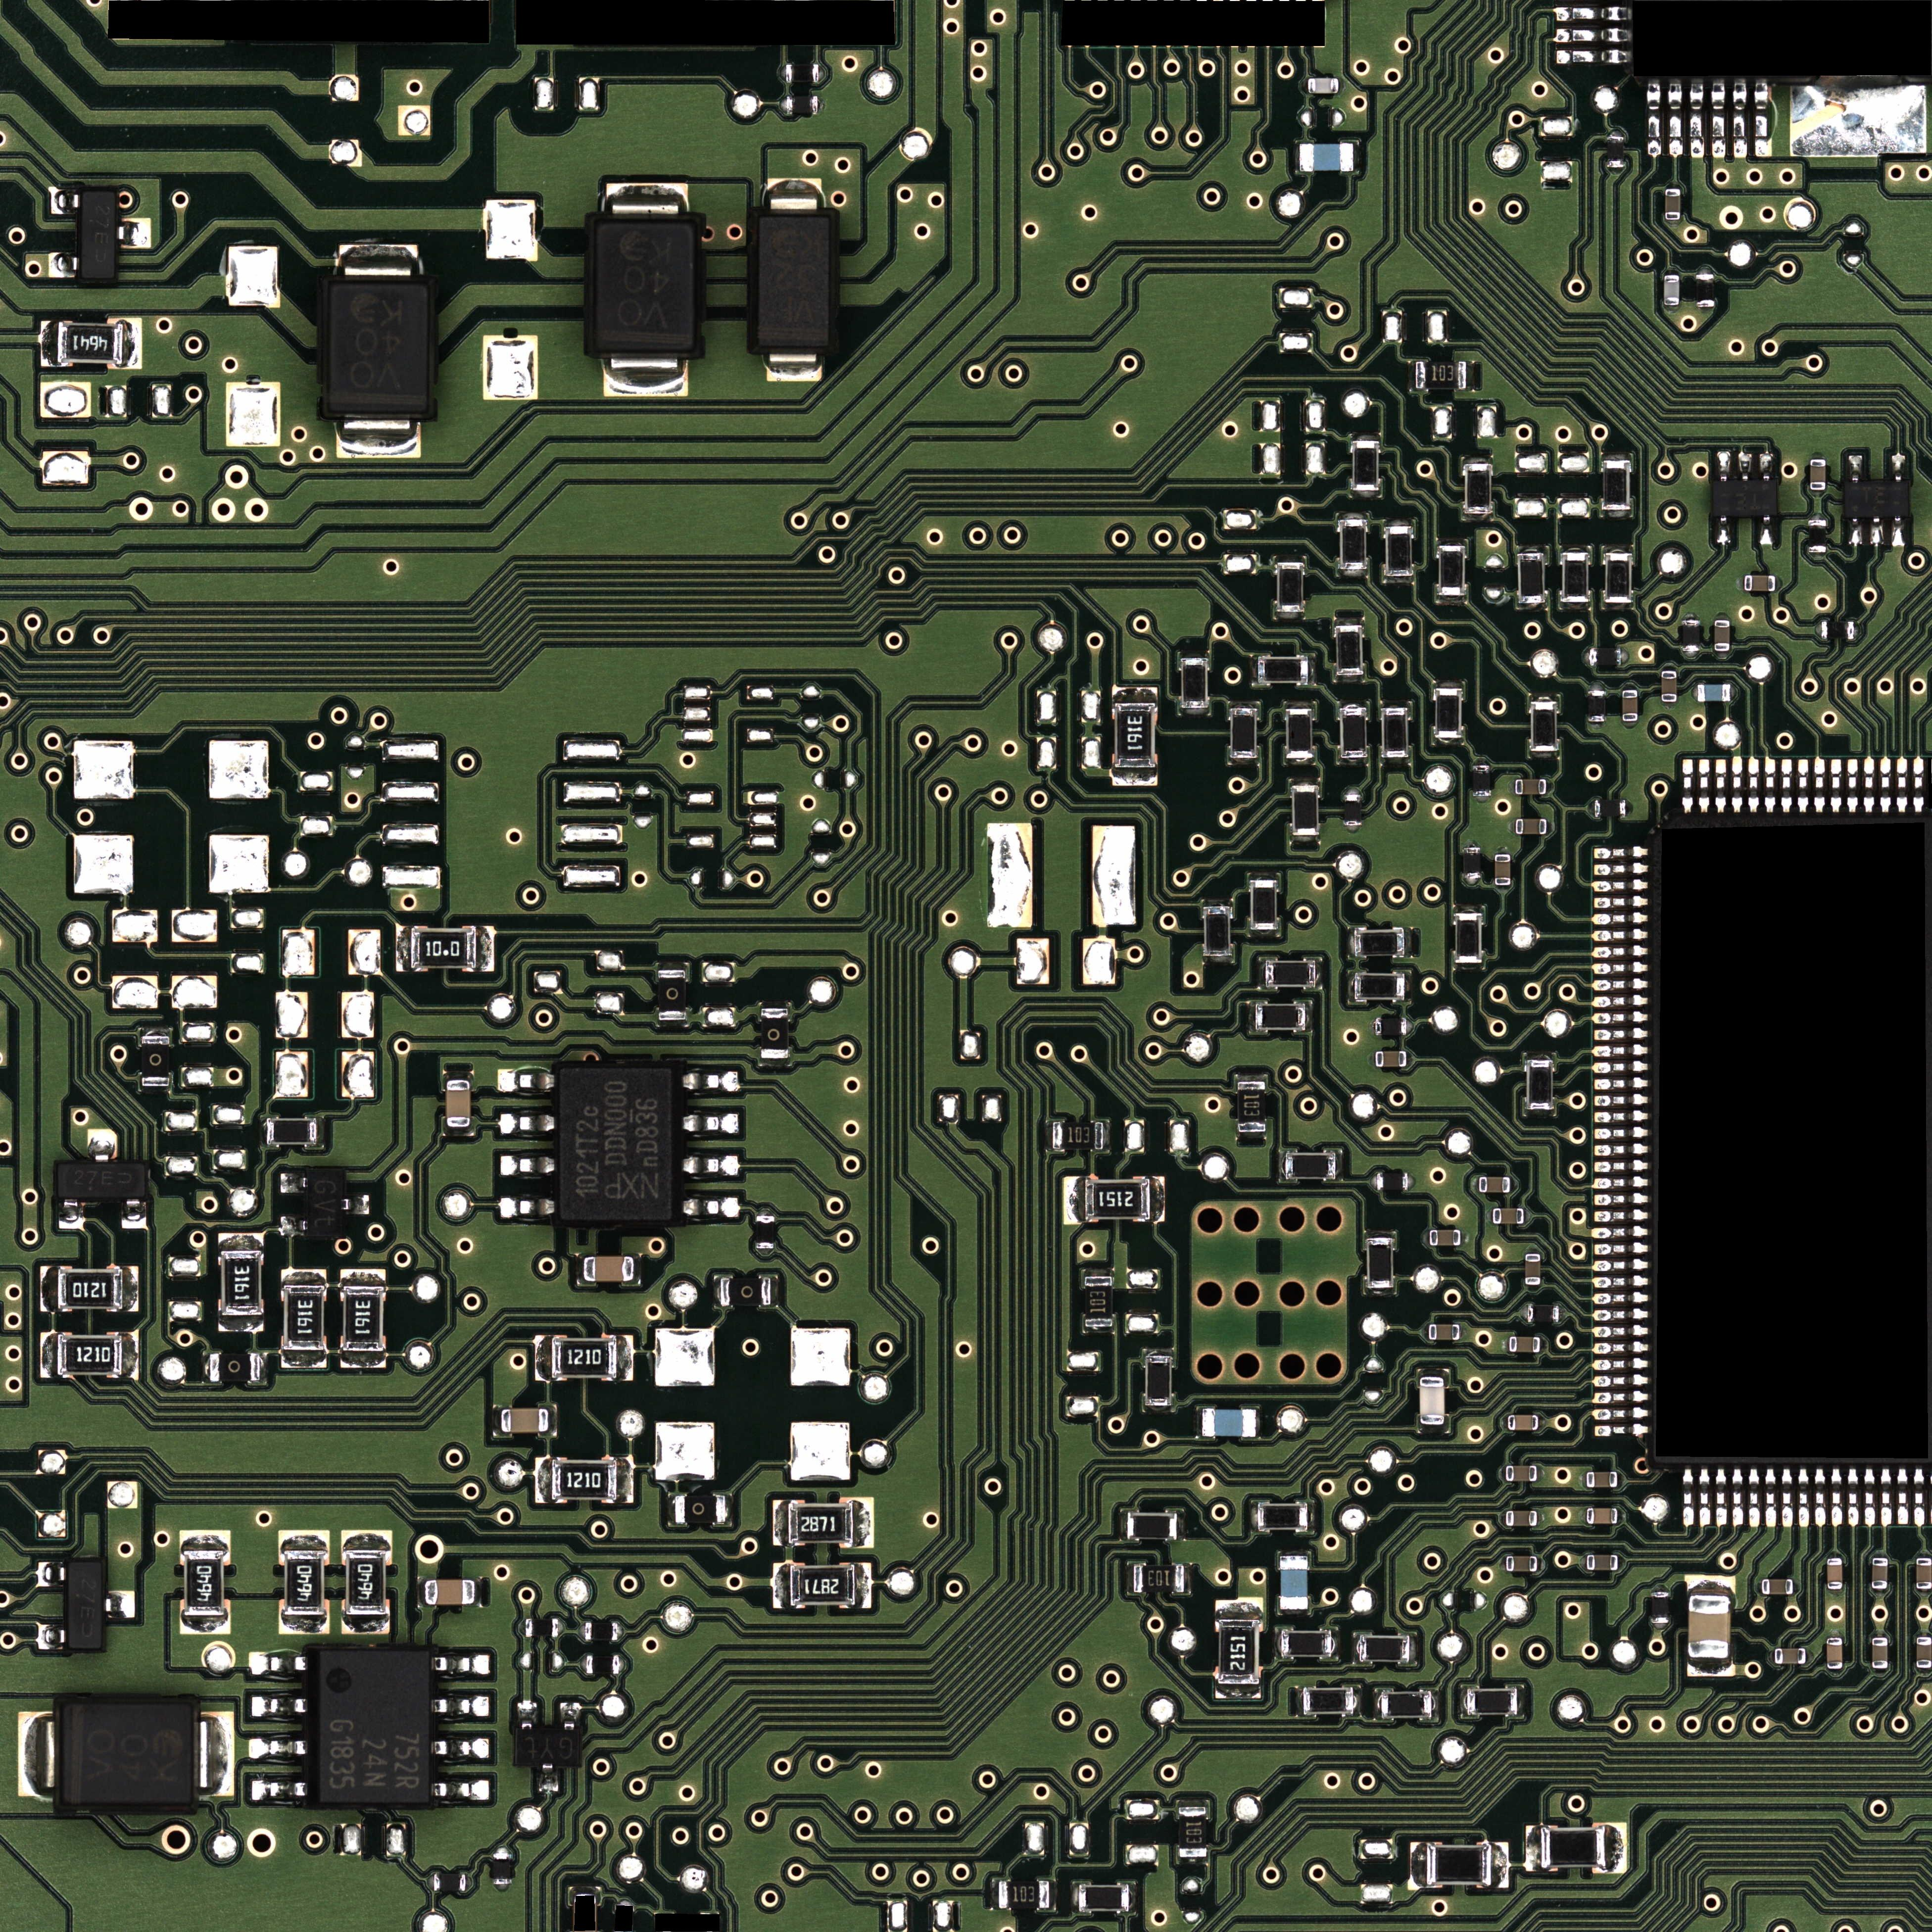Package: (559, 1067, 672, 1221), (320, 1651, 430, 1803), (60, 1706, 193, 1805), (329, 283, 428, 414), (594, 223, 694, 352), (757, 216, 830, 350), (57, 1161, 147, 1200), (65, 1560, 104, 1649), (80, 188, 117, 280), (410, 927, 476, 970), (345, 1550, 387, 1615), (1217, 1619, 1260, 1684), (789, 1502, 853, 1545), (283, 1284, 324, 1350), (283, 1550, 324, 1615), (552, 1460, 617, 1500), (184, 1550, 225, 1615), (221, 1251, 262, 1316), (1115, 702, 1155, 768), (1085, 1178, 1150, 1219), (1688, 1596, 1730, 1658), (58, 322, 122, 363), (552, 1338, 616, 1378), (58, 1269, 122, 1309), (791, 1566, 855, 1606), (1428, 1844, 1491, 1884), (343, 1286, 382, 1352), (57, 1336, 122, 1375), (306, 1169, 345, 1235), (1541, 1828, 1605, 1867), (515, 1729, 580, 1766), (1844, 481, 1909, 517), (1713, 481, 1776, 515), (1300, 143, 1353, 172), (1203, 1408, 1256, 1437), (720, 1277, 771, 1306), (1415, 361, 1467, 389), (1085, 1276, 1113, 1327), (1237, 1081, 1265, 1132), (676, 1495, 725, 1523), (211, 1353, 260, 1382), (142, 1037, 170, 1086), (1000, 1881, 1049, 1909), (1053, 1122, 1102, 1150), (1281, 1557, 1307, 1608), (1178, 1808, 1207, 1856), (761, 1008, 787, 1058), (658, 970, 685, 1019), (1465, 464, 1491, 513), (1603, 460, 1629, 510), (1355, 929, 1405, 955), (1518, 554, 1545, 603), (1127, 1513, 1177, 1539), (1079, 1884, 1129, 1911), (1134, 1566, 1184, 1592), (1382, 1691, 1431, 1718), (1286, 1152, 1336, 1178), (1355, 973, 1405, 1000), (1467, 1688, 1516, 1714), (1258, 1504, 1307, 1530), (267, 1118, 315, 1145), (1361, 1635, 1408, 1661), (584, 1256, 633, 1281), (425, 1580, 474, 1605), (1456, 913, 1481, 962), (1293, 786, 1318, 835), (1205, 906, 1230, 955), (1182, 658, 1207, 708), (1258, 658, 1307, 683), (1353, 441, 1378, 490), (1286, 708, 1311, 757), (1341, 708, 1366, 757), (1231, 708, 1256, 757), (1277, 563, 1302, 612), (1341, 520, 1366, 570), (1606, 554, 1631, 603), (1562, 552, 1587, 602), (1256, 1005, 1306, 1030), (1146, 1355, 1171, 1405), (1368, 1238, 1392, 1288), (501, 1408, 548, 1433), (1387, 527, 1412, 575), (1338, 626, 1362, 674), (1440, 547, 1465, 594), (1267, 961, 1315, 985), (1530, 702, 1555, 750), (1304, 1688, 1352, 1713), (1283, 1631, 1330, 1656), (1419, 1376, 1444, 1424), (446, 1081, 471, 1127), (1384, 708, 1407, 757), (1437, 688, 1460, 738), (1529, 1060, 1552, 1109), (1253, 881, 1276, 929), (786, 64, 819, 83), (755, 1215, 775, 1249), (525, 1619, 559, 1637), (586, 1656, 619, 1674), (584, 1622, 617, 1640), (1821, 621, 1854, 639), (786, 96, 817, 113), (433, 1874, 465, 1891), (494, 1852, 511, 1884), (1808, 520, 1826, 552), (1697, 274, 1714, 306), (1683, 619, 1700, 651), (1345, 794, 1362, 826), (1463, 847, 1481, 879), (1606, 136, 1624, 168), (1589, 648, 1621, 665), (1375, 1017, 1407, 1035), (1527, 1304, 1559, 1322), (1376, 1173, 1408, 1191), (1697, 685, 1730, 701), (1596, 800, 1626, 817), (1589, 690, 1605, 722), (1661, 671, 1677, 702), (1474, 764, 1490, 796), (1622, 690, 1638, 722), (1872, 1637, 1888, 1668), (1506, 1511, 1537, 1527), (1506, 1465, 1537, 1481), (1775, 1649, 1806, 1665), (1916, 1637, 1932, 1668), (1516, 819, 1546, 835), (1516, 778, 1546, 794), (1714, 621, 1730, 651), (1744, 575, 1775, 591), (1665, 189, 1681, 219), (1495, 855, 1511, 885), (1810, 460, 1826, 490), (1587, 1507, 1617, 1523), (1493, 1208, 1523, 1224), (1587, 1555, 1617, 1571), (1430, 1230, 1460, 1246), (1525, 1254, 1541, 1284), (1430, 1323, 1460, 1339), (1509, 1336, 1539, 1352), (1376, 1051, 1407, 1067), (1872, 1559, 1888, 1589), (1479, 1177, 1509, 1192), (1587, 1472, 1617, 1488), (1826, 1638, 1842, 1668), (1652, 1592, 1668, 1622), (1916, 1559, 1932, 1589), (1309, 78, 1338, 94), (1506, 1557, 1537, 1571), (1665, 274, 1679, 304), (1762, 1580, 1792, 1594), (1828, 1559, 1842, 1589), (1509, 1415, 1537, 1430)
Solder: (1790, 85, 1927, 156), (336, 414, 419, 458), (603, 352, 686, 396), (607, 182, 688, 223), (18, 1711, 55, 1798), (200, 1711, 234, 1796), (340, 244, 416, 281), (766, 179, 823, 216), (763, 350, 823, 382), (249, 1652, 308, 1675), (497, 1069, 556, 1092), (251, 1778, 308, 1801), (683, 1154, 740, 1177), (432, 1654, 490, 1675), (432, 1780, 490, 1801), (1755, 78, 1771, 156), (1711, 78, 1727, 156), (1688, 80, 1704, 157), (1668, 78, 1684, 156), (1732, 80, 1748, 156), (1645, 80, 1661, 156), (249, 1737, 306, 1759), (432, 1737, 488, 1759), (432, 1695, 488, 1716), (499, 1196, 556, 1217), (683, 1113, 740, 1134), (683, 1196, 740, 1217), (683, 1070, 740, 1092), (499, 1113, 556, 1134), (251, 1695, 306, 1716), (501, 1155, 556, 1177), (853, 1497, 874, 1548), (1557, 50, 1633, 64), (119, 218, 152, 249), (87, 1129, 119, 1161), (1063, 1177, 1085, 1224), (280, 1530, 329, 1550), (341, 1530, 391, 1550), (280, 1615, 329, 1635), (180, 1615, 230, 1635), (180, 1530, 230, 1550), (1557, 28, 1633, 41), (1557, 7, 1633, 19), (341, 1615, 389, 1635), (1215, 1599, 1263, 1619), (124, 318, 142, 368), (1606, 1824, 1624, 1874), (1686, 1576, 1734, 1594), (1111, 768, 1157, 786), (1491, 1842, 1509, 1888), (1688, 1658, 1734, 1675), (106, 1591, 134, 1619), (41, 1265, 57, 1313), (617, 1456, 633, 1504), (1410, 1842, 1426, 1890), (48, 253, 78, 278), (58, 1200, 83, 1230), (41, 320, 57, 366), (340, 1352, 386, 1368), (122, 1332, 138, 1378), (218, 1233, 264, 1249), (218, 1316, 264, 1332), (340, 1269, 386, 1284), (281, 1269, 327, 1284), (281, 1352, 327, 1368), (41, 1332, 57, 1378), (478, 925, 494, 971), (855, 1562, 870, 1608), (773, 1562, 789, 1608), (1525, 1826, 1541, 1872), (1913, 1467, 1925, 1525), (1897, 1467, 1909, 1525), (1847, 1467, 1859, 1525), (1813, 1467, 1826, 1525), (1798, 1467, 1810, 1525), (1698, 1468, 1711, 1527), (1683, 1468, 1695, 1527), (1782, 1467, 1794, 1525), (122, 1267, 138, 1311), (617, 1336, 633, 1380), (1113, 686, 1157, 702), (51, 189, 80, 214), (122, 1200, 147, 1228), (37, 1624, 65, 1649), (37, 1562, 65, 1587), (1594, 1407, 1651, 1419), (1594, 1391, 1651, 1403), (1592, 1341, 1649, 1353), (1592, 1226, 1649, 1238), (1592, 1242, 1649, 1254), (1592, 1260, 1649, 1272), (1592, 1276, 1649, 1288), (1592, 1161, 1649, 1173), (1592, 1177, 1649, 1189), (1594, 994, 1651, 1007), (1594, 1375, 1649, 1387), (1594, 1093, 1649, 1106), (1594, 1127, 1649, 1139), (1594, 1143, 1649, 1155), (1594, 929, 1649, 941), (1594, 945, 1649, 957), (1798, 757, 1810, 812), (1594, 978, 1647, 991), (1594, 879, 1647, 892), (1594, 863, 1647, 876), (1714, 759, 1727, 812), (396, 925, 410, 971), (536, 1336, 550, 1382), (536, 1458, 550, 1504), (1215, 1684, 1261, 1698), (773, 1500, 787, 1545), (1150, 1177, 1164, 1221), (1881, 1467, 1891, 1525), (1865, 1467, 1875, 1525), (1831, 1467, 1842, 1525), (1766, 1468, 1776, 1527), (1750, 1468, 1760, 1527), (1732, 1468, 1743, 1527), (1716, 1468, 1727, 1527), (538, 1764, 559, 1792), (559, 1702, 580, 1730), (517, 1700, 538, 1729), (1594, 1424, 1651, 1435), (1592, 1309, 1649, 1320), (1592, 1325, 1649, 1336), (1592, 1293, 1649, 1304), (1594, 1359, 1649, 1369), (1592, 1077, 1647, 1088), (1594, 1111, 1649, 1122), (1594, 913, 1649, 924), (1594, 1012, 1649, 1023), (1594, 1046, 1649, 1056), (1683, 759, 1693, 814), (1732, 757, 1743, 812), (1782, 757, 1792, 812), (1831, 757, 1842, 812), (1847, 757, 1858, 812), (1865, 757, 1875, 812), (1881, 757, 1891, 812), (1898, 757, 1909, 812), (1813, 757, 1824, 812), (1594, 1194, 1647, 1205), (1594, 1062, 1647, 1072), (1594, 897, 1647, 908), (1594, 962, 1647, 973), (1594, 1028, 1647, 1039), (1594, 847, 1647, 858), (1698, 759, 1709, 812), (1748, 759, 1759, 812), (1766, 759, 1776, 812), (1914, 757, 1925, 810), (1594, 1212, 1649, 1221), (281, 1173, 306, 1192), (281, 1215, 306, 1235), (1868, 517, 1884, 547), (345, 1194, 368, 1214), (1716, 517, 1730, 547), (1891, 453, 1905, 481), (1759, 453, 1773, 481), (1759, 517, 1773, 545), (1849, 455, 1863, 481), (1849, 518, 1863, 545), (1739, 451, 1752, 481), (1718, 451, 1730, 481), (1891, 517, 1904, 547), (568, 1886, 602, 1895), (492, 1405, 501, 1437), (442, 1127, 474, 1136), (548, 1405, 557, 1437), (759, 1058, 791, 1067), (667, 1493, 676, 1525), (1417, 1424, 1449, 1433), (1364, 1230, 1396, 1238), (1417, 1368, 1449, 1376), (1453, 904, 1484, 913), (1601, 545, 1633, 554), (1599, 510, 1631, 518), (1516, 1684, 1525, 1716), (140, 1028, 170, 1037), (656, 961, 686, 970), (770, 1276, 778, 1306), (1350, 490, 1380, 499), (1350, 432, 1380, 441), (1338, 511, 1368, 520), (1307, 655, 1316, 685), (1284, 701, 1315, 709), (1346, 927, 1355, 957), (1284, 757, 1315, 766), (1384, 518, 1414, 527), (1249, 929, 1279, 938), (1203, 955, 1233, 964), (1247, 1001, 1256, 1031), (1274, 1629, 1283, 1660), (1177, 1509, 1185, 1539), (1330, 1628, 1339, 1658), (1352, 1686, 1361, 1716), (1408, 1633, 1417, 1663), (1070, 1882, 1079, 1913), (1295, 1686, 1304, 1716), (1463, 513, 1493, 522), (1437, 538, 1467, 547), (1518, 545, 1548, 554), (1529, 694, 1559, 702), (658, 1019, 686, 1028), (1276, 612, 1304, 621), (1336, 674, 1364, 683), (1180, 708, 1208, 717), (1145, 1405, 1173, 1414), (1277, 1152, 1286, 1180), (1249, 1502, 1258, 1530), (1435, 679, 1463, 688), (1177, 1799, 1210, 1806), (713, 1276, 720, 1307), (725, 1493, 732, 1525), (1274, 556, 1306, 563), (1201, 899, 1233, 906), (1228, 757, 1260, 764), (1046, 1120, 1053, 1152), (1235, 1132, 1267, 1139), (1235, 1074, 1267, 1081), (1177, 1858, 1208, 1865), (1127, 1562, 1134, 1594), (991, 1879, 998, 1911), (1120, 1509, 1127, 1541), (1560, 545, 1592, 552), (1523, 1053, 1555, 1060), (1460, 1686, 1467, 1718), (317, 1116, 324, 1146), (418, 1576, 425, 1606), (577, 1254, 584, 1284), (633, 1254, 640, 1284), (1467, 361, 1474, 391), (1230, 701, 1260, 708), (1384, 577, 1414, 584), (1334, 617, 1364, 625), (1380, 701, 1410, 708), (1290, 778, 1320, 786), (1249, 872, 1279, 879), (1251, 655, 1258, 685), (1405, 927, 1412, 957), (1290, 835, 1320, 842), (1336, 1150, 1343, 1180), (1364, 1288, 1394, 1295), (1102, 1122, 1109, 1152), (1306, 1001, 1313, 1031), (1348, 971, 1355, 1001), (1315, 957, 1322, 987), (1405, 971, 1412, 1001), (1258, 959, 1265, 989), (1049, 1881, 1056, 1911), (1307, 1502, 1315, 1532), (1129, 1882, 1136, 1913), (1431, 1690, 1438, 1720), (1279, 1608, 1309, 1615), (1353, 1633, 1361, 1663), (1375, 1690, 1382, 1720), (1601, 453, 1631, 460), (1463, 456, 1493, 464), (1529, 752, 1559, 759), (1437, 596, 1467, 603), (1433, 738, 1463, 745), (1454, 962, 1484, 970), (1408, 361, 1415, 391), (260, 1353, 267, 1382), (140, 1086, 168, 1093), (444, 1072, 472, 1079), (203, 1353, 211, 1382), (474, 1578, 481, 1606), (761, 1001, 789, 1008), (1339, 701, 1368, 708), (1339, 570, 1368, 577), (1180, 651, 1208, 658), (1382, 757, 1410, 764), (1339, 757, 1368, 764), (1085, 1269, 1113, 1276), (1145, 1348, 1173, 1355), (1196, 1408, 1203, 1437), (1085, 1327, 1113, 1334), (1184, 1564, 1191, 1592), (1560, 602, 1589, 609), (1525, 1109, 1553, 1116), (260, 1118, 267, 1145), (1518, 603, 1545, 610), (465, 1874, 474, 1893), (1353, 142, 1359, 172), (1256, 1408, 1261, 1438), (1279, 1550, 1309, 1555), (1603, 603, 1633, 609), (494, 1845, 511, 1854), (1826, 1629, 1844, 1638), (1826, 1550, 1844, 1559), (1295, 143, 1300, 172), (1338, 78, 1346, 94), (1368, 1051, 1376, 1067), (1495, 846, 1511, 855), (1714, 612, 1730, 621), (1736, 575, 1744, 591), (1683, 612, 1698, 621), (1460, 1230, 1468, 1246), (1539, 1338, 1548, 1353), (1520, 1306, 1529, 1322), (1617, 1555, 1626, 1571), (1617, 1472, 1626, 1488), (1828, 1668, 1844, 1677), (1587, 800, 1596, 816), (817, 96, 824, 115), (755, 1249, 775, 1256), (755, 1208, 775, 1215), (1343, 826, 1362, 833), (1606, 168, 1626, 175), (1854, 621, 1861, 640), (1472, 796, 1491, 803), (426, 1874, 433, 1891), (778, 96, 786, 113), (778, 65, 786, 83), (819, 65, 826, 83), (518, 1619, 525, 1637), (619, 1656, 626, 1674), (579, 1656, 586, 1674), (557, 1619, 564, 1637), (579, 1622, 586, 1640), (617, 1622, 625, 1640), (1408, 1173, 1415, 1191), (1407, 1017, 1414, 1035), (1697, 267, 1714, 274), (1606, 129, 1624, 136), (1697, 306, 1714, 313), (1775, 577, 1783, 591), (1813, 623, 1822, 637), (1507, 819, 1516, 833), (1472, 759, 1490, 766), (1463, 840, 1481, 847), (1621, 649, 1629, 663), (1500, 1415, 1509, 1430), (1806, 1647, 1813, 1665), (494, 1884, 510, 1891), (1300, 78, 1307, 94), (1345, 787, 1361, 794), (1407, 1051, 1414, 1067), (1368, 1019, 1375, 1035), (1422, 1230, 1430, 1246), (1421, 1325, 1428, 1341), (1369, 1173, 1376, 1189), (1810, 451, 1826, 458), (1665, 182, 1681, 189), (1663, 269, 1679, 276), (1665, 304, 1681, 311), (1546, 819, 1553, 835), (1546, 778, 1553, 794), (1714, 651, 1730, 658), (1810, 490, 1826, 497), (1683, 651, 1698, 658), (1589, 722, 1605, 729), (1661, 663, 1677, 671), (1810, 513, 1826, 520), (1730, 685, 1737, 701), (1622, 722, 1638, 729), (1691, 685, 1698, 701), (1810, 552, 1826, 559), (1495, 885, 1511, 892), (1626, 800, 1633, 816), (1525, 1284, 1541, 1292), (1511, 1177, 1518, 1192), (1523, 1208, 1530, 1224), (1539, 1415, 1546, 1431), (1525, 1247, 1541, 1254), (1486, 1208, 1493, 1224), (1559, 1306, 1566, 1322), (1872, 1629, 1888, 1637), (1617, 1509, 1624, 1525), (1537, 1557, 1545, 1573), (1872, 1552, 1888, 1559), (1652, 1585, 1668, 1592), (1828, 1589, 1844, 1596), (1580, 1472, 1587, 1488), (1872, 1589, 1888, 1596), (1755, 1580, 1762, 1596), (1767, 1649, 1775, 1665), (1537, 1465, 1545, 1481), (1652, 1622, 1668, 1629), (1916, 1629, 1932, 1637), (1916, 1589, 1932, 1596), (1872, 1668, 1888, 1675), (1916, 1552, 1932, 1559), (1916, 1668, 1932, 1675), (1622, 683, 1637, 690), (1509, 780, 1516, 794), (1582, 649, 1589, 663), (1502, 1338, 1509, 1352), (1460, 1325, 1467, 1339), (1580, 1555, 1587, 1569), (1499, 1557, 1506, 1571), (1537, 1511, 1545, 1525), (1499, 1511, 1506, 1525), (1792, 1580, 1799, 1594), (1580, 1509, 1587, 1523), (1500, 1467, 1507, 1481), (1463, 879, 1481, 885), (616, 1898, 633, 1904), (1665, 219, 1681, 225), (1589, 685, 1605, 690), (1661, 702, 1677, 708), (1474, 1177, 1479, 1192)
